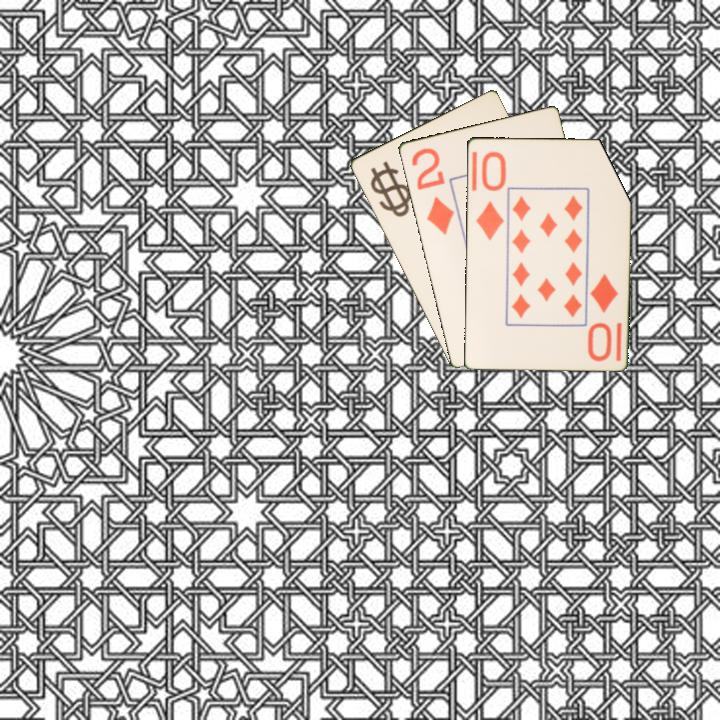10d: (472, 148, 508, 243), (586, 270, 621, 364)
2d: (408, 144, 457, 238)
JK: (370, 168, 408, 216)
